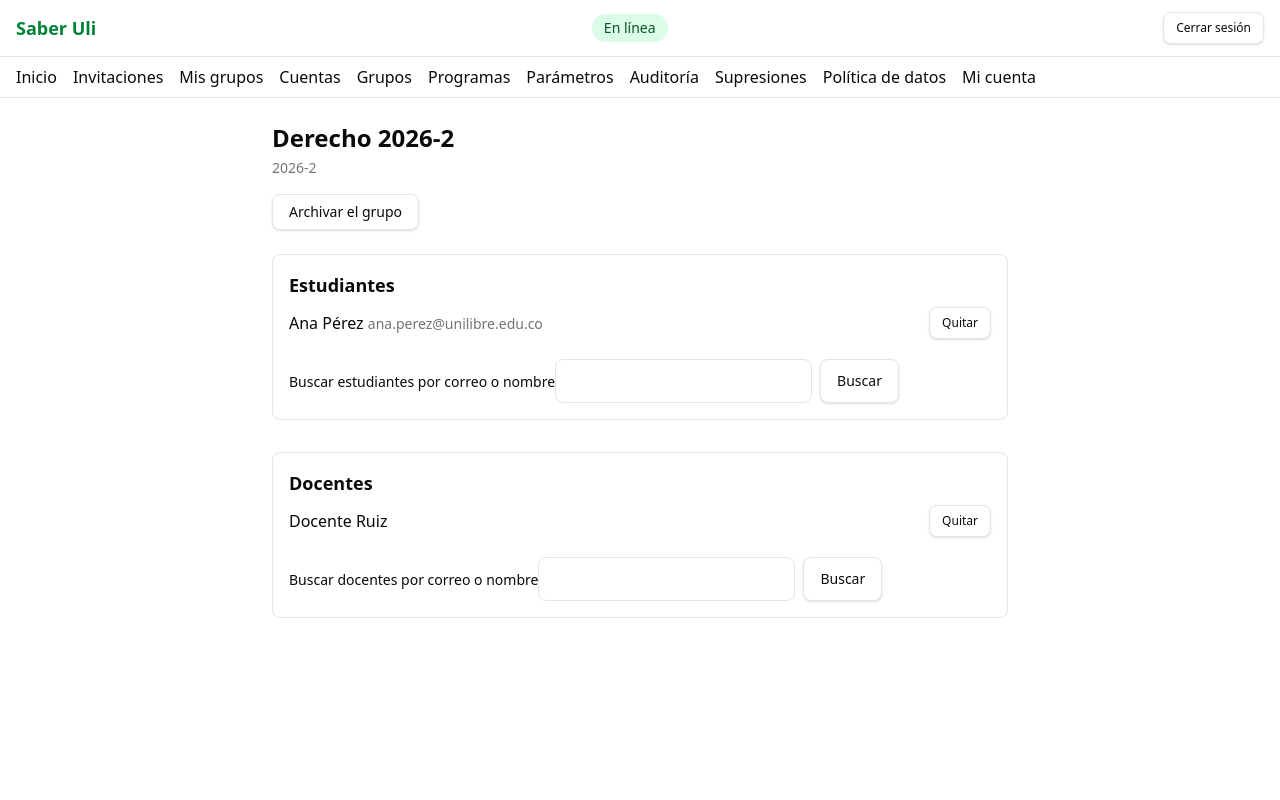
grupos › explica por qué no se agrega a alguien
The image size is (1280, 800).
Type "p" into the search field labelled "Buscar estudiantes por correo o nombre". click: (684, 381)
box: [555, 359, 812, 403]
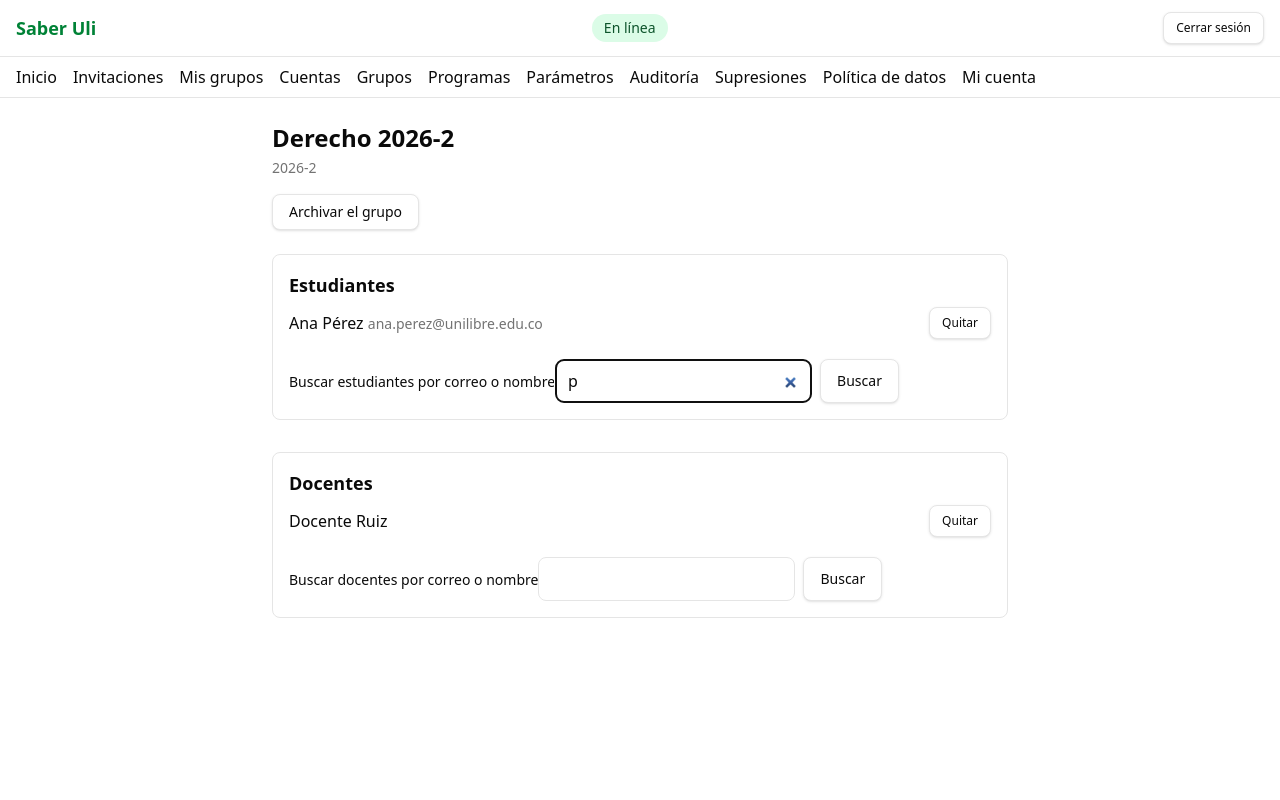
Click the button "Buscar" in the row of "Buscar estudiantes por correo o nombre". click: click(860, 381)
box: [820, 359, 899, 403]
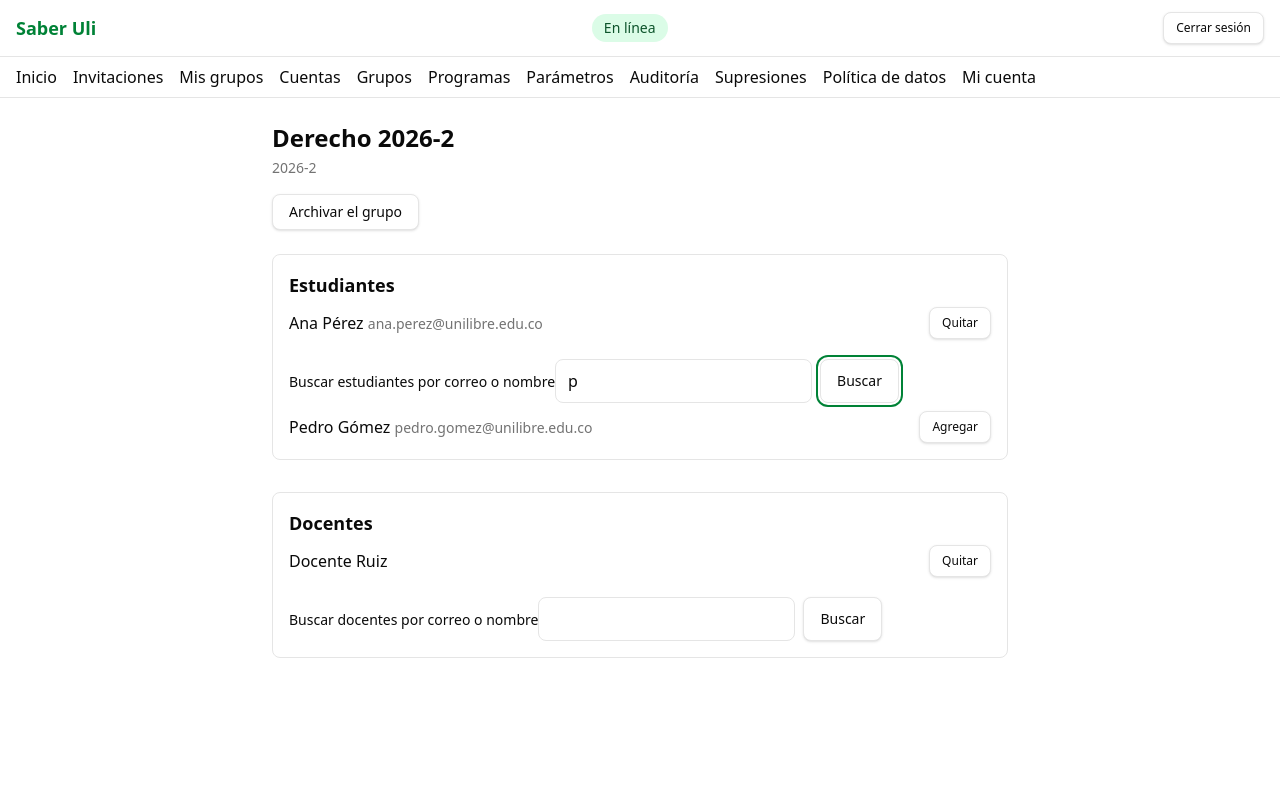
Click the button with aria-label "Agregar a Pedro Gómez". click: click(955, 427)
box: [919, 411, 991, 443]
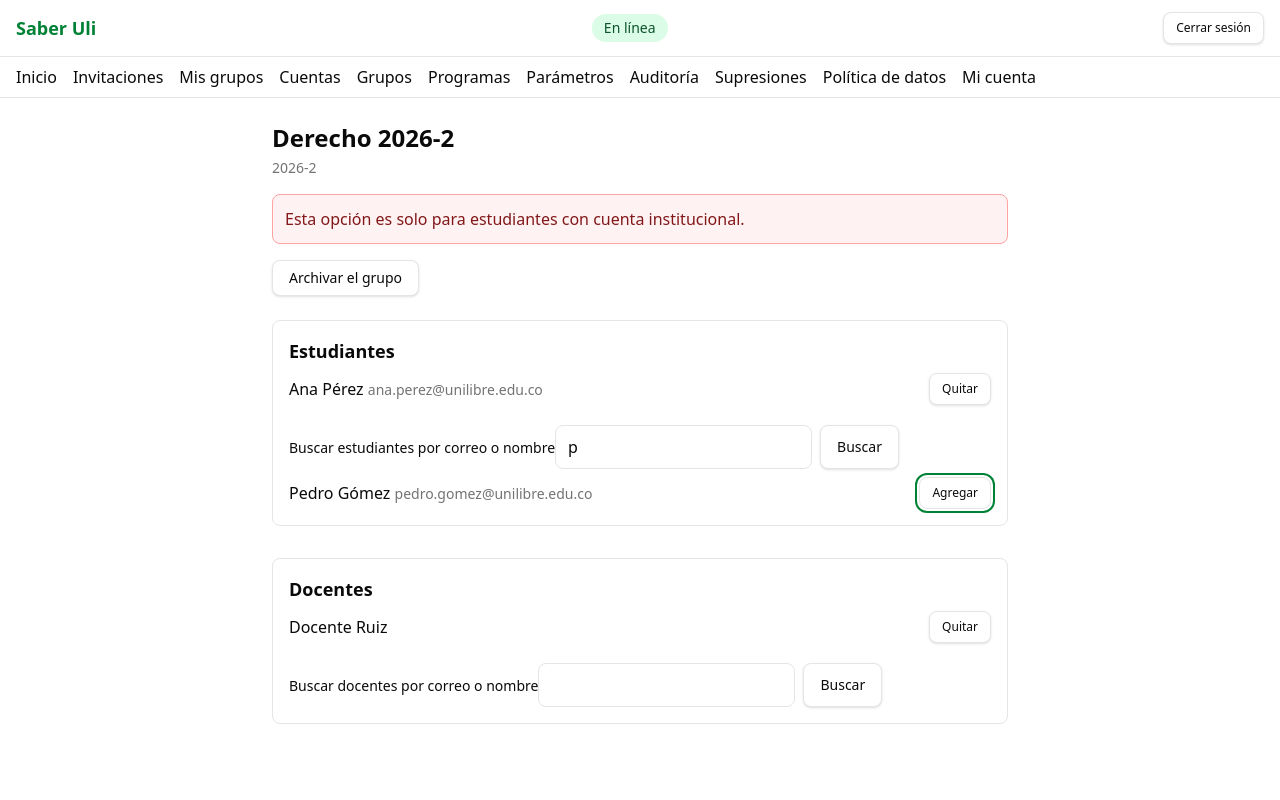
Expected: the message "Esta opción es solo para estudiantes con cuenta institucional." is shown, [272, 194, 1008, 244]
